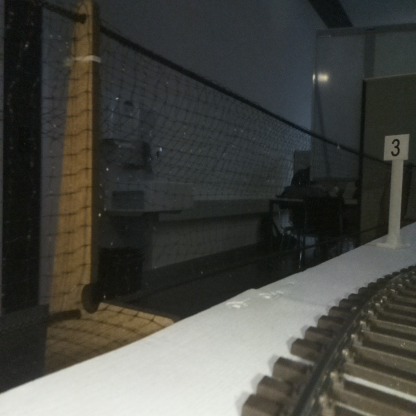white-info-3: (384, 134, 409, 245)
